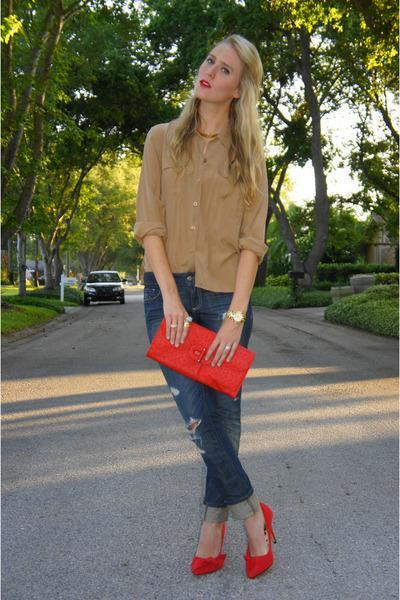bag: (147, 324, 251, 395)
pants: (143, 270, 253, 529)
shirt: (123, 120, 266, 292)
shoe: (191, 500, 276, 578)
